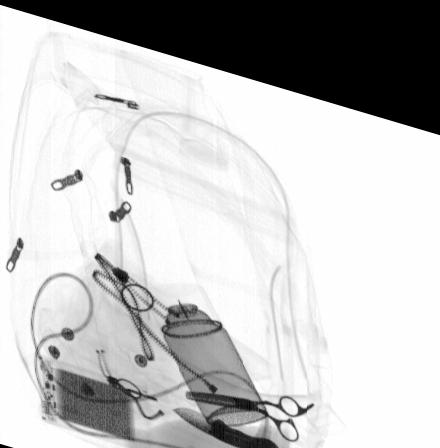Knife: (171, 395, 279, 439)
Powerbank: (35, 351, 152, 443)
Scissors: (184, 377, 317, 427)
Sprayer: (145, 269, 271, 415)
